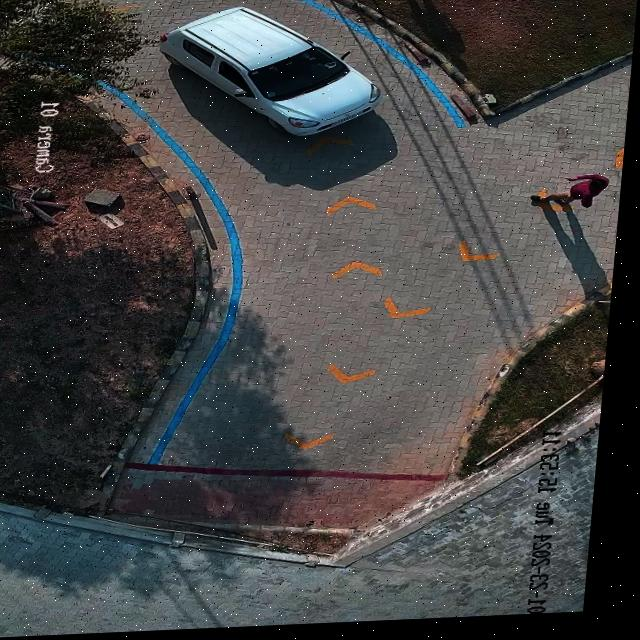car: (157, 8, 385, 140)
